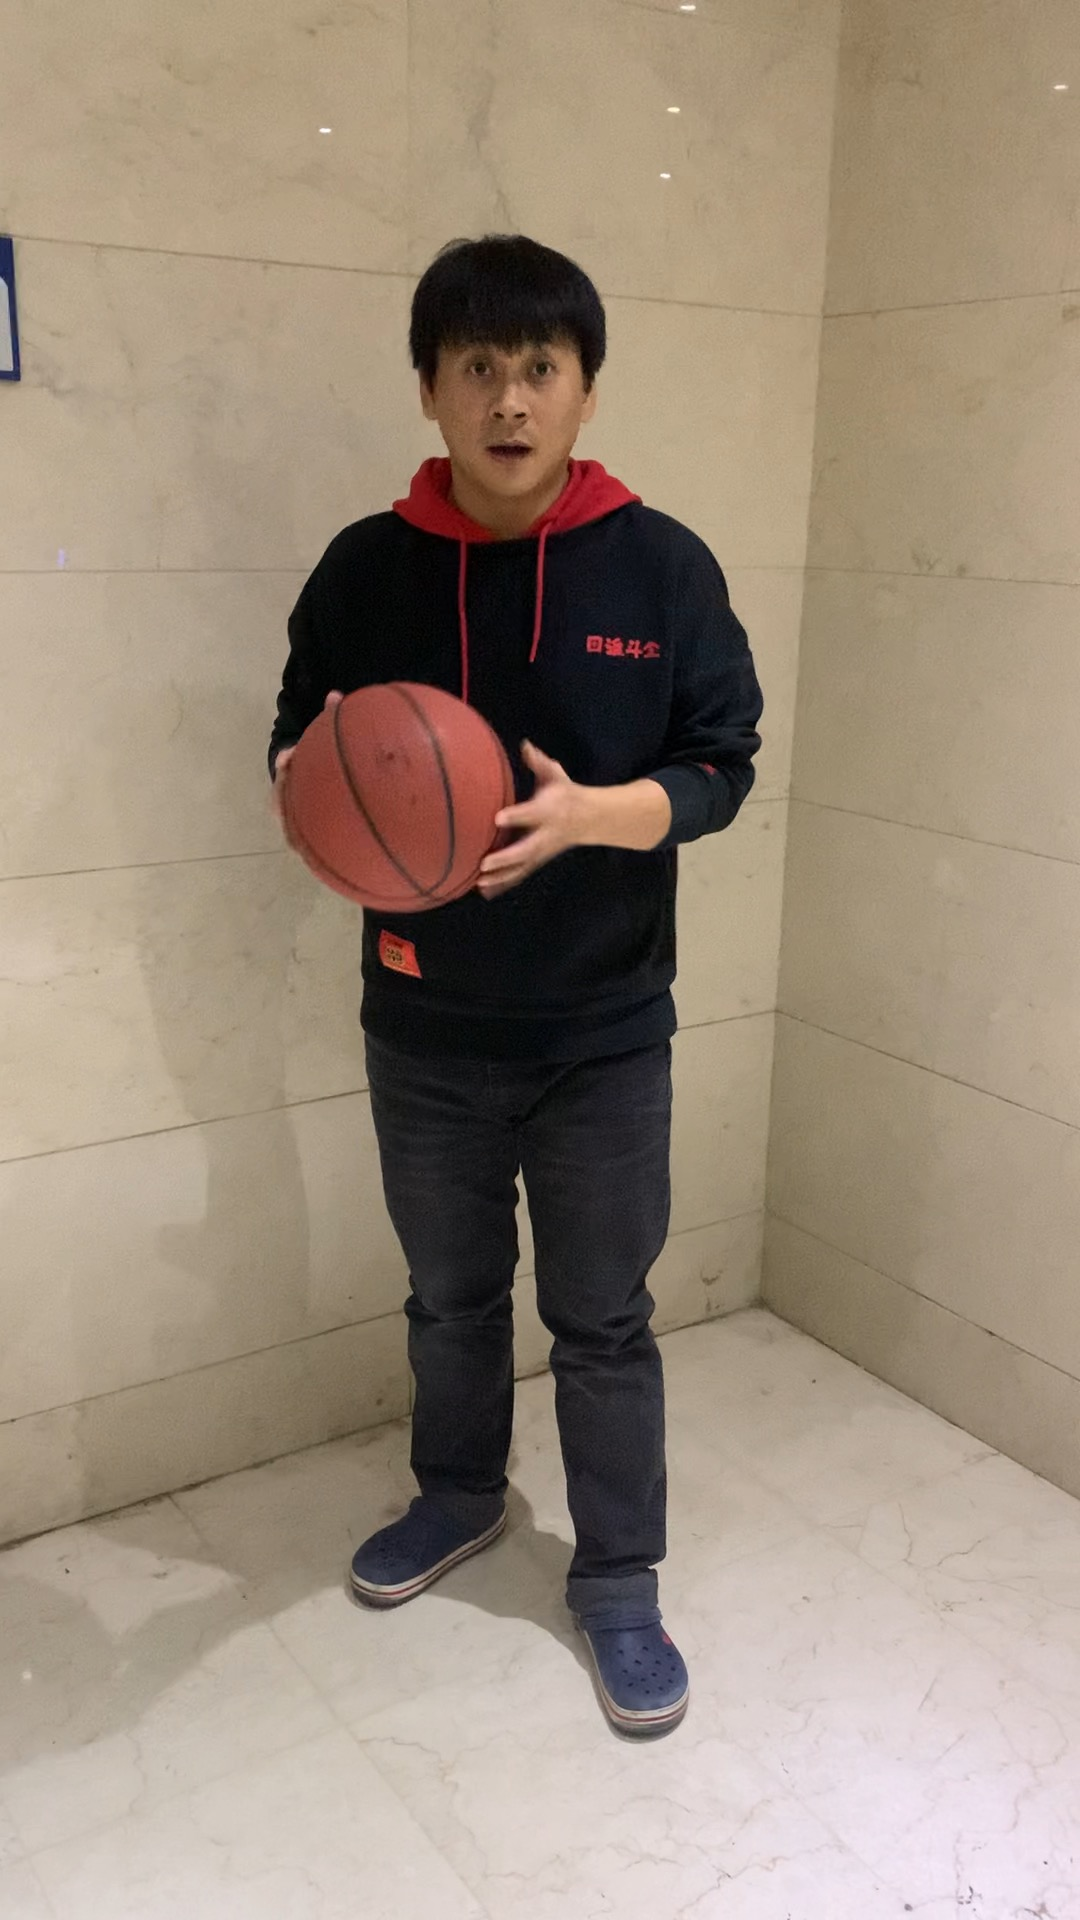ball: (281, 682, 513, 909)
